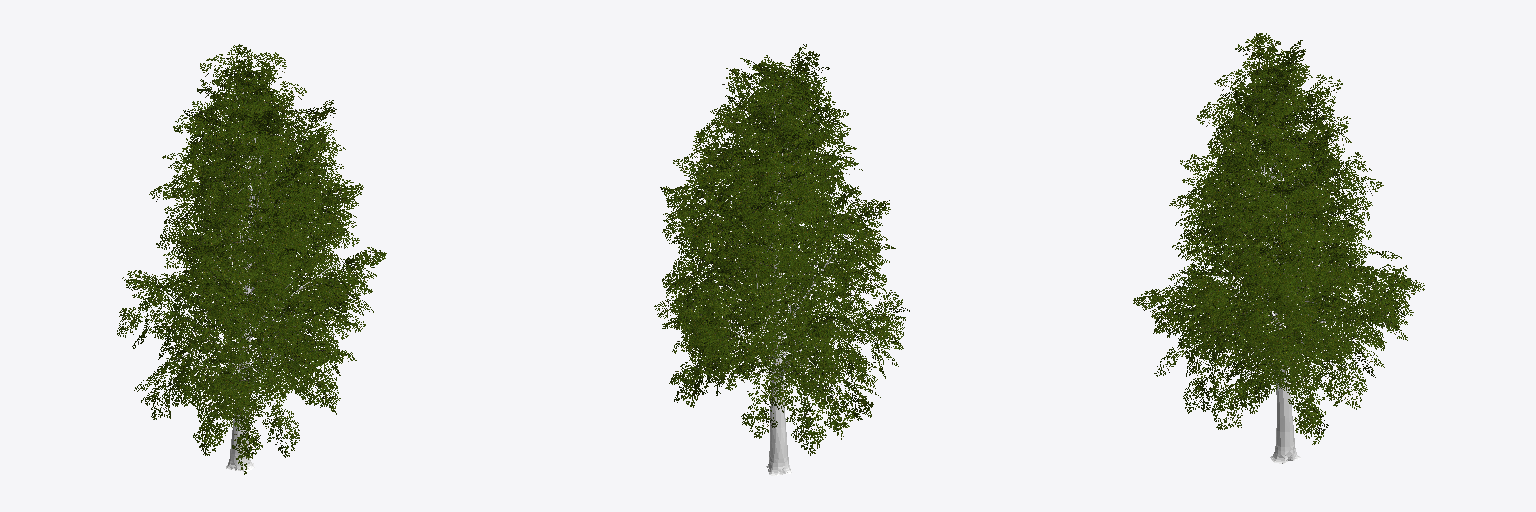
3 views of the same model, side by side, from view 1: azimuth 30°, elevation 25°; view 2: azimuth 150°, elevation 25°; view 3: azimuth 270°, elevation 25° (orthographic).
Parts seen in each view (by area): view 1: g2, g1; view 2: g2, g1; view 3: g2, g1.
Part boxes in pixels (bbox=[...]): g2: bbox=[117, 44, 386, 474]; g1: bbox=[143, 78, 348, 471]; g2: bbox=[654, 44, 909, 455]; g1: bbox=[686, 71, 873, 475]; g2: bbox=[1133, 33, 1424, 444]; g1: bbox=[1171, 69, 1375, 463].
Bounding box in the file's own units: 4.24 × 7.59 × 4.99.
2 materials, 1 textured.